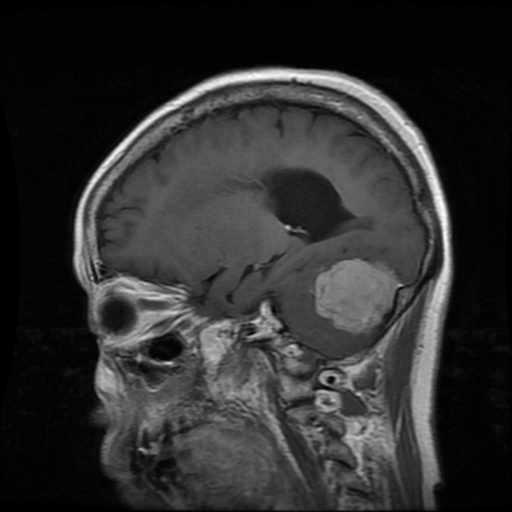meningioma: (313, 256, 400, 330)
